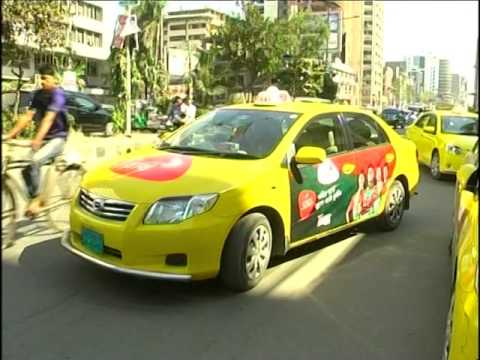bicycle: (1, 135, 85, 248)
car: (35, 87, 115, 135)
rickshaw: (157, 94, 196, 134)
taxi: (59, 86, 421, 291), (441, 162, 478, 360), (403, 110, 480, 179)
three wheelers (CNG): (128, 98, 150, 132)
